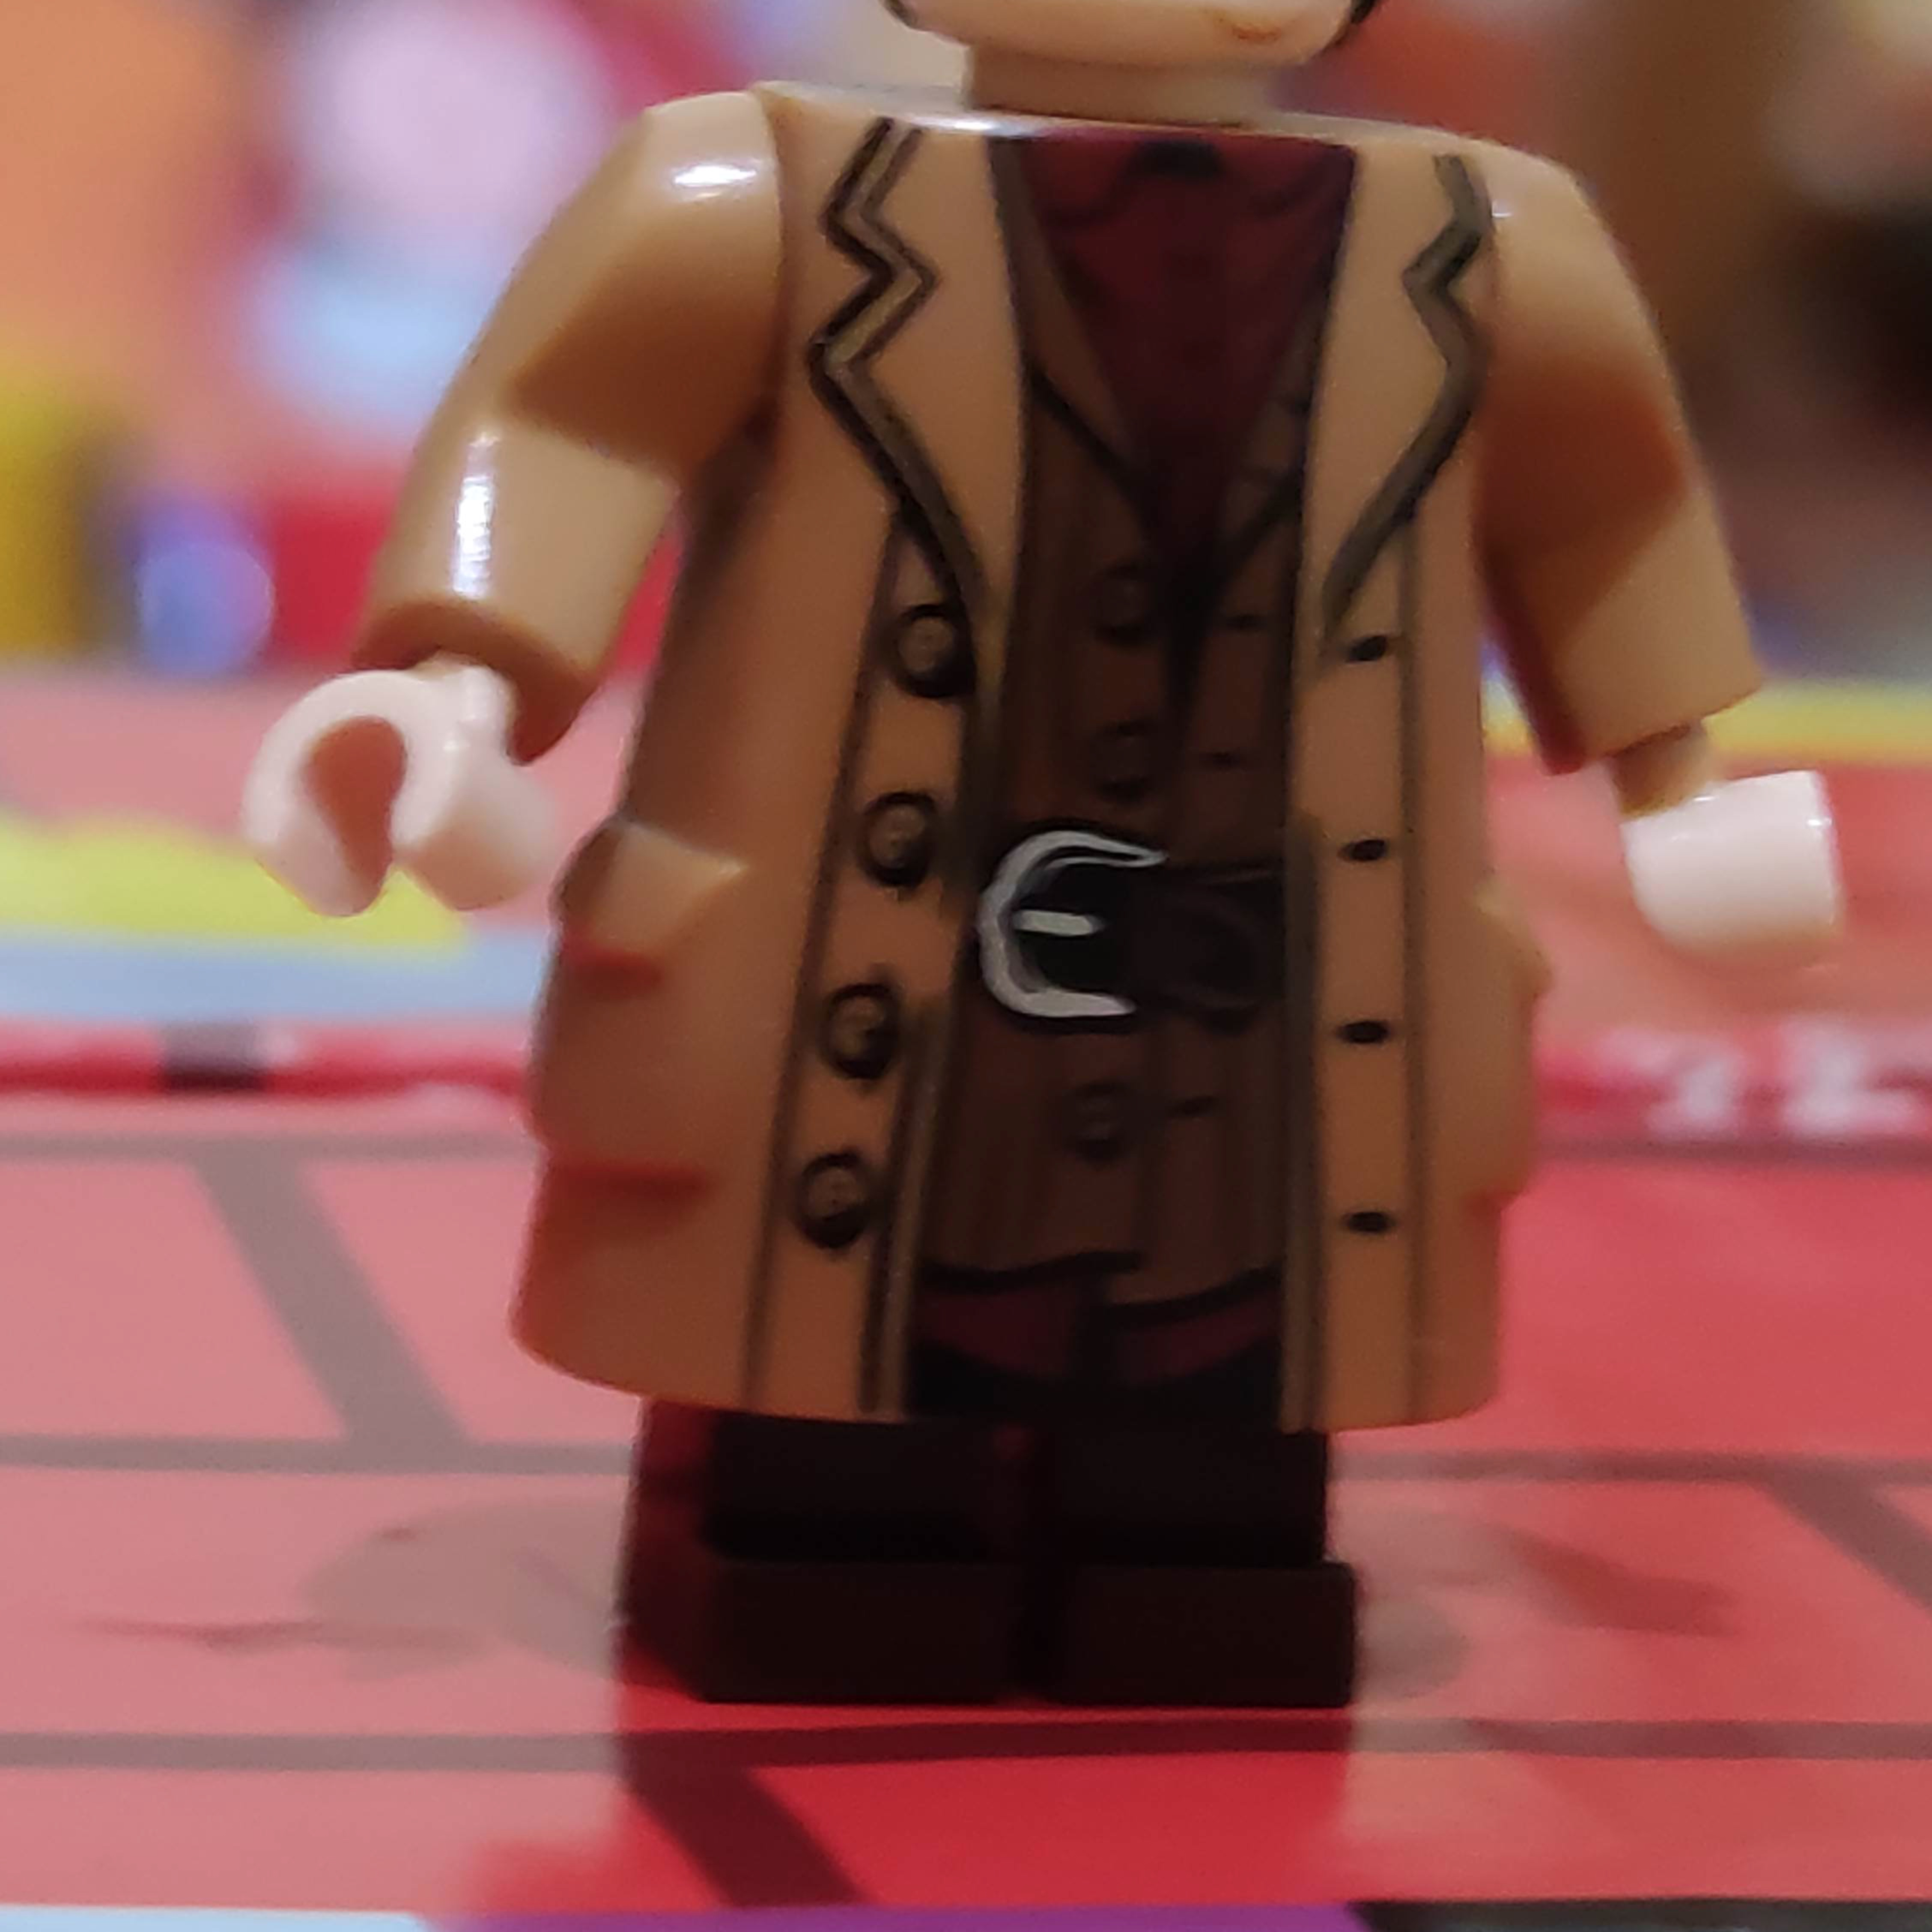lego: (244, 0, 1845, 1709)
